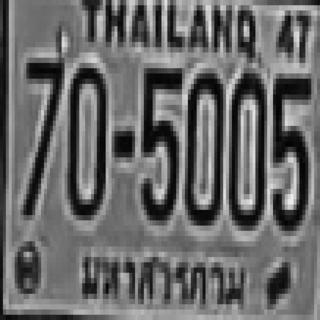N00: (65, 58, 106, 215), (183, 68, 222, 220), (229, 68, 264, 226)
N05: (140, 63, 180, 220), (272, 73, 310, 226)
N07: (22, 55, 63, 212)
P25: (74, 246, 251, 313)
